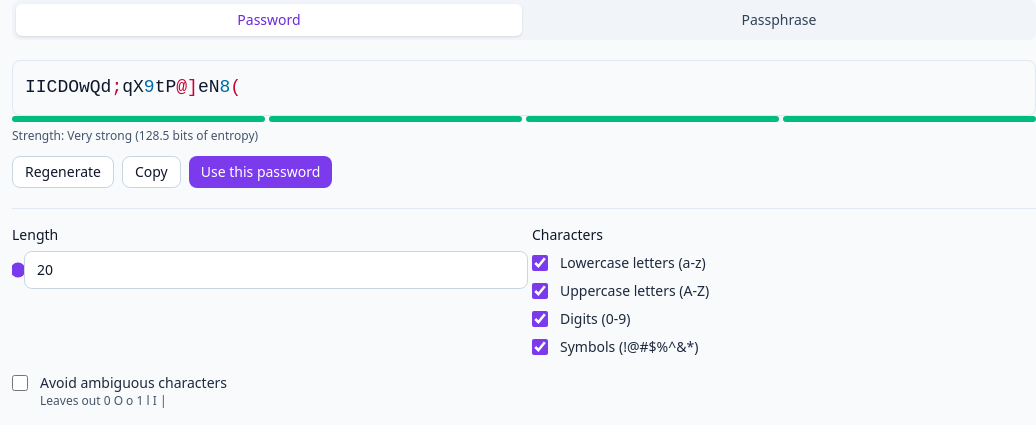
Test: PasswordGeneratorPanel › shows the generator's message for invalid combinations instead of crashing
The image size is (1036, 425).
Click the checkbox labelled "Lowercase letters (a-z)".
click(540, 263)  # box [532, 255, 548, 271]
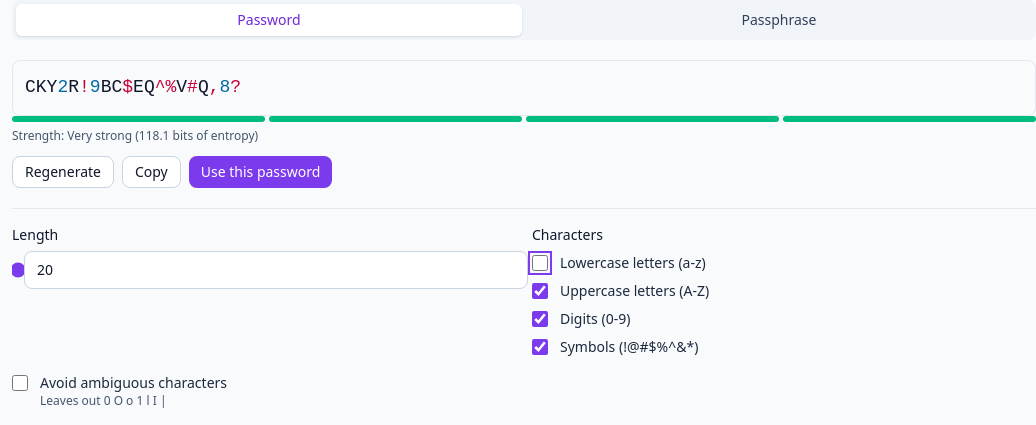
Click the checkbox labelled "Uppercase letters (A-Z)".
click(540, 291)  # box [532, 283, 548, 299]
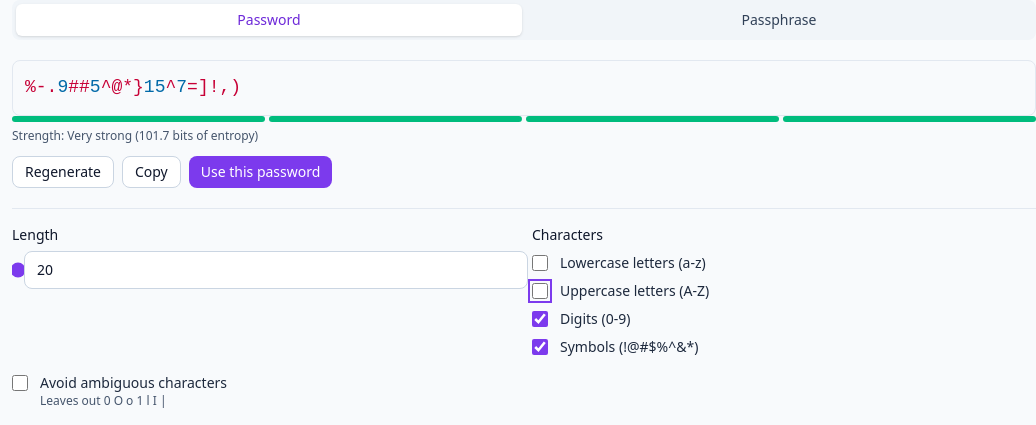
Click the checkbox labelled "Digits (0-9)".
click(540, 319)  # box [532, 311, 548, 327]
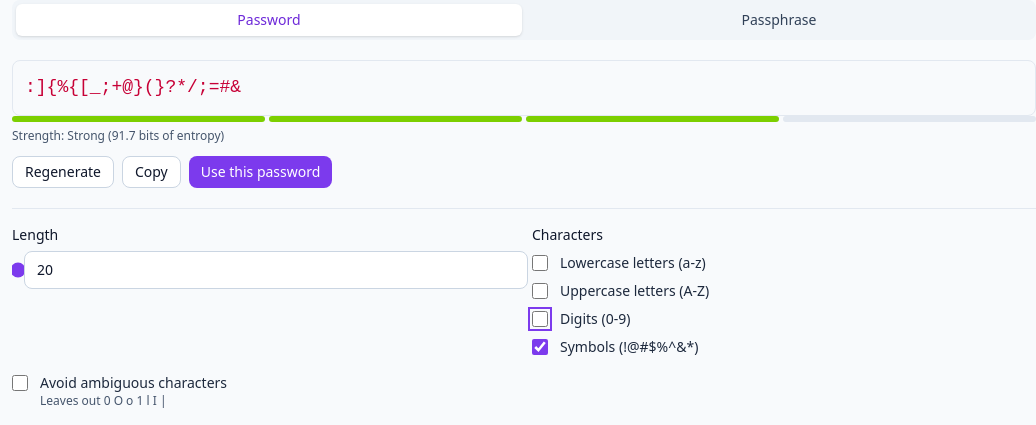
Click the checkbox labelled "Symbols (!@#$%^&*)".
click(540, 347)  # box [532, 339, 548, 355]
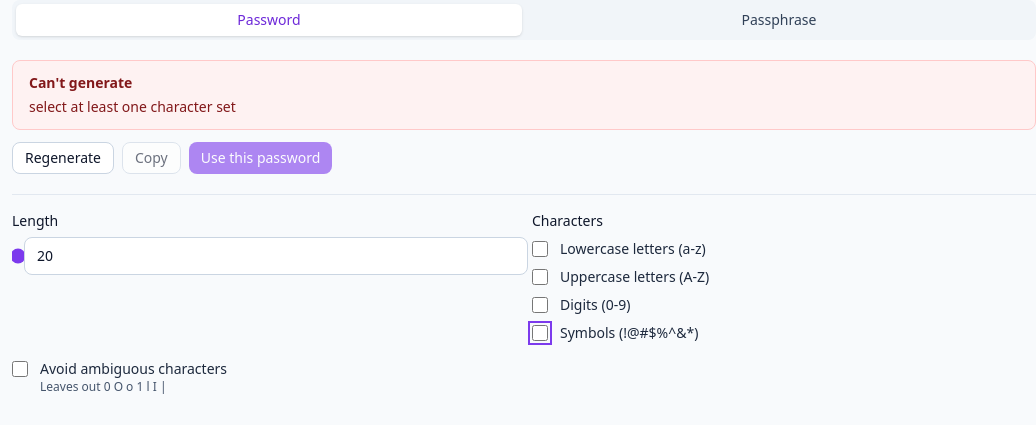
Result: the message shows "select at least one character set" at [29, 97, 236, 116]
Result: the element with test id "generator-output" is gone
Result: the button "Use this password" is disabled at [189, 142, 332, 174]
Click the checkbox labelled "Digits (0-9)".
click(540, 305)  # box [532, 297, 548, 313]
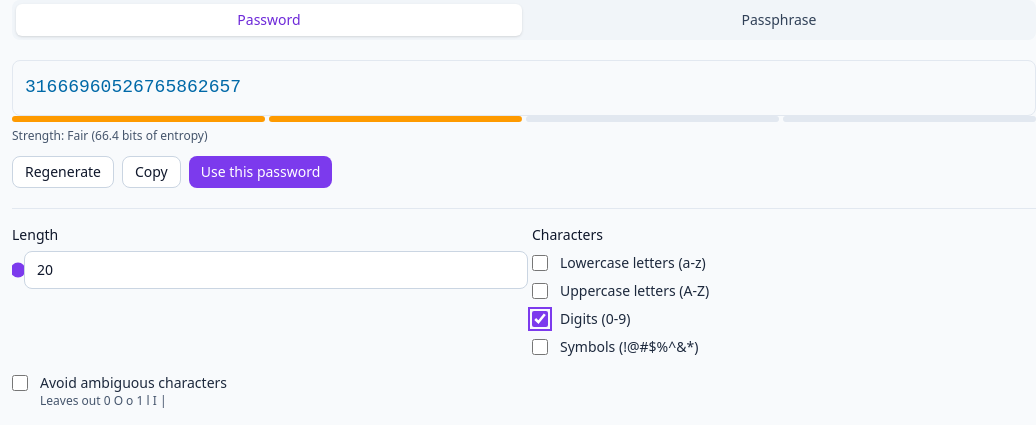
Result: the message "Can't generate select at least one character set" is gone
